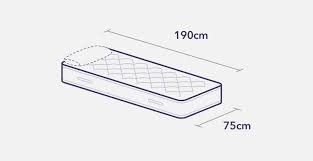bed-matress: (61, 45, 223, 121)
